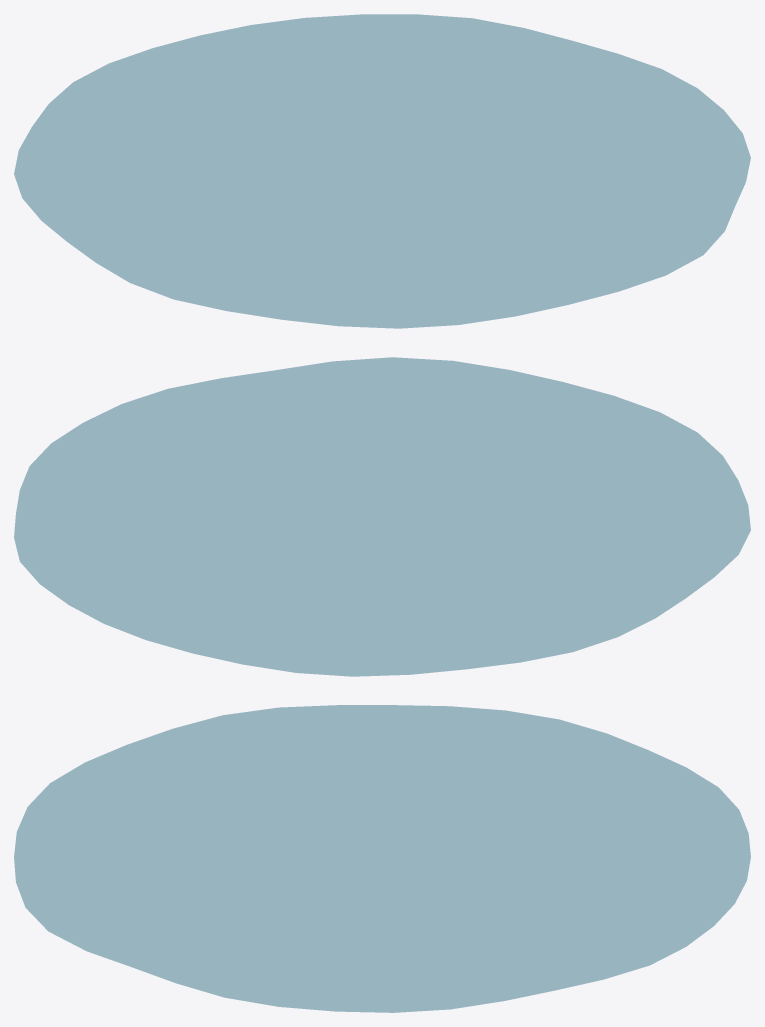
The model's file is ice.gltf.
3 views of the same model, one above another, from view 1: azimuth 30°, elevation 25°; view 2: azimuth 150°, elevation 25°; view 3: azimuth 270°, elevation 25° (orthographic).
Visible parts, largest first — view 1: ice; view 2: ice; view 3: ice.
Part boxes in pixels (box(x1,y1,x2,y2)): ice: box(14, 14, 750, 328); ice: box(14, 357, 750, 676); ice: box(14, 705, 750, 1012).
Size of the model in its own units: 14.72 by 0 by 14.9.
